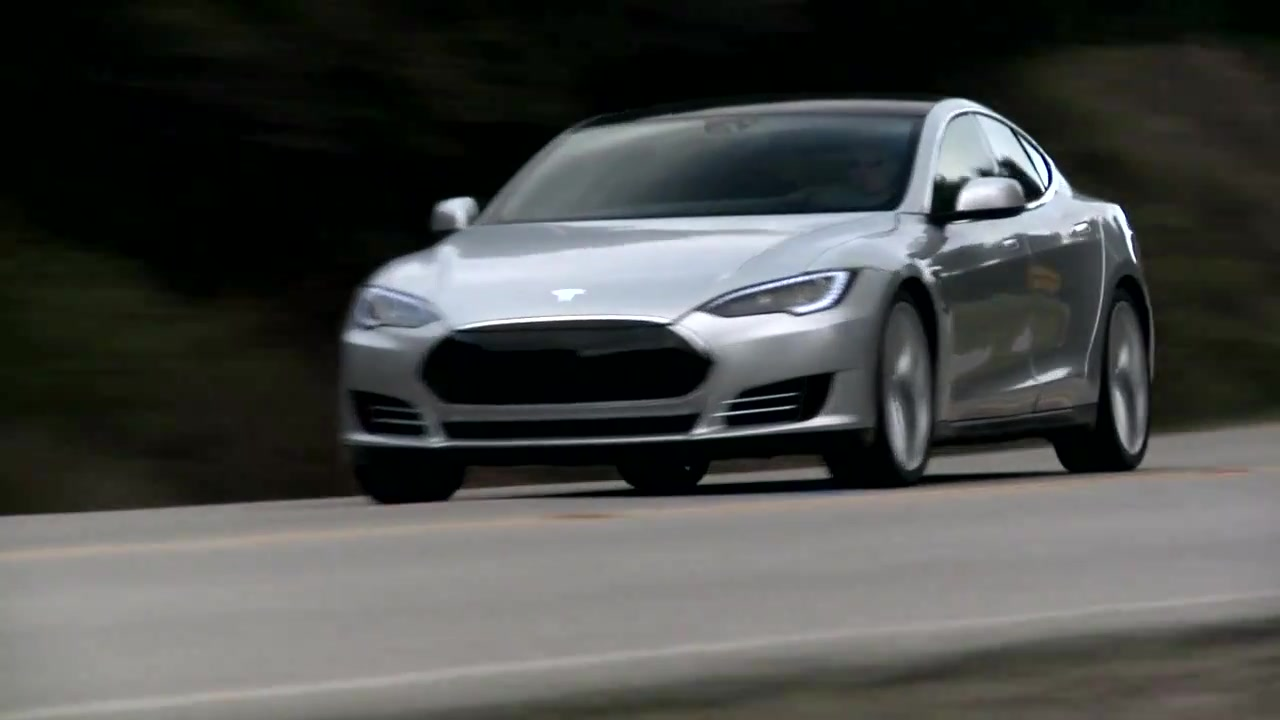car: (337, 93, 1161, 510)
